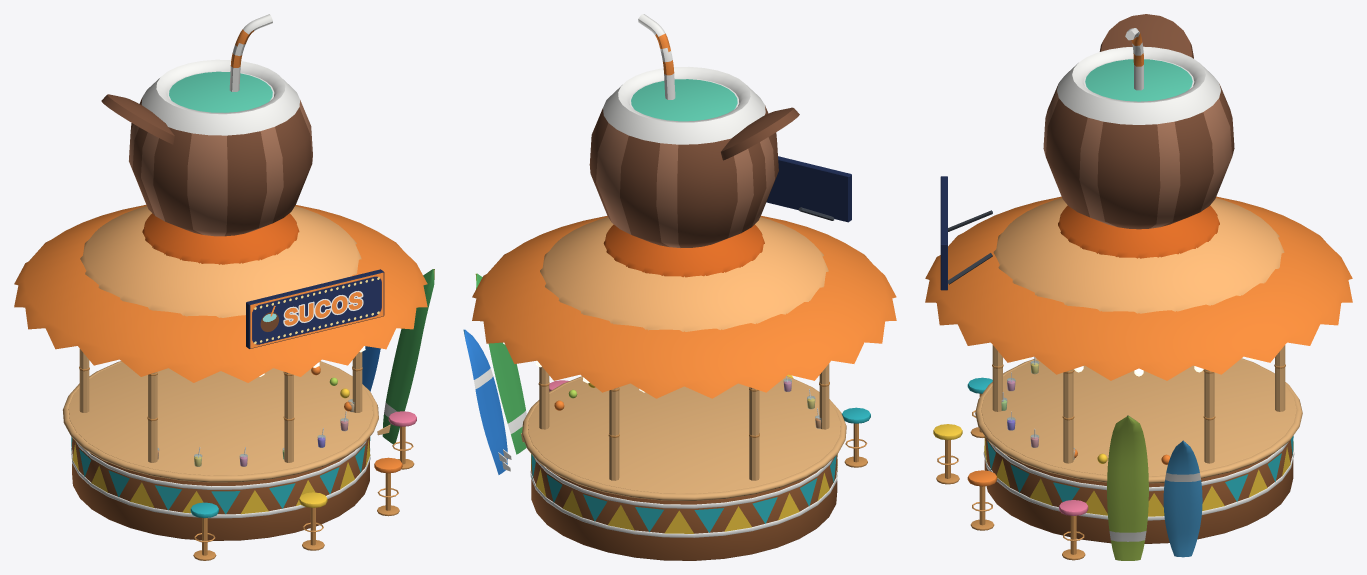
The model's file is quiosque_sucos_coco_gigante.glb.
The picture shows the model from 3 angles, left to right: view 1: azimuth 30°, elevation 25°; view 2: azimuth 150°, elevation 25°; view 3: azimuth 270°, elevation 25°; orthographic projection. The views are drawn at different scales.
Parts seen in each view (by area): view 1: quiosque_sucos_coco_gigante; view 2: quiosque_sucos_coco_gigante; view 3: quiosque_sucos_coco_gigante.
Part boxes in pixels (x1=…): quiosque_sucos_coco_gigante: x1=14, y1=14, x2=434, y2=560; quiosque_sucos_coco_gigante: x1=463, y1=14, x2=896, y2=560; quiosque_sucos_coco_gigante: x1=925, y1=14, x2=1352, y2=560.
Bounding box in the file's own units: 6.3 × 7.08 × 5.82.
Materials: 4 (2 with a texture image).
